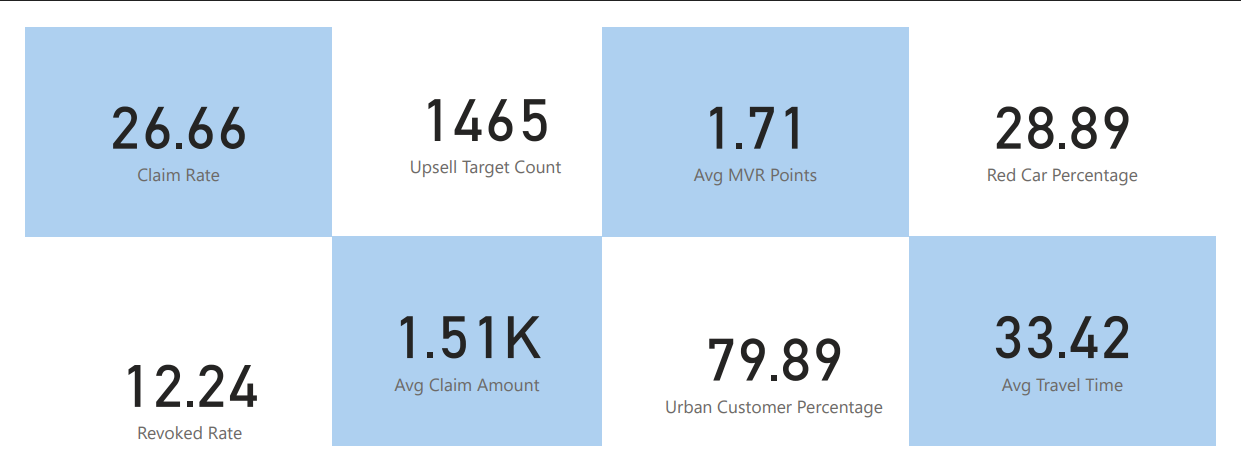

What the dashboard file says about the page in this screenshot:
{"tool":"powerbi","page":{"name":"KPIs","canvas":[1280,720],"ordinal":1},"visuals":[{"type":"card","fields":{"Values":["car_insurance_data_clean.Claim Rate"]},"box":[0,0,279.9,190.6],"z":0},{"type":"card","fields":{"Values":["car_insurance_data_clean.Revoked Rate"]},"box":[9.7,190.6,279.9,279.9],"z":1000},{"type":"card","fields":{"Values":["car_insurance_data_clean.Upsell Target Count"]},"box":[279.9,0,279.9,177.3],"z":2000},{"type":"card","fields":{"Values":["car_insurance_data_clean.Avg MVR Points"]},"box":[526,0,279.9,190.6],"z":3000},{"type":"card","fields":{"Values":["car_insurance_data_clean.Red Car Percentage"]},"box":[805.9,0,279.9,190.6],"z":4000},{"type":"card","fields":{"Values":["car_insurance_data_clean.Avg Claim Amount"]},"box":[279.9,190.6,246.1,191.8],"z":5000},{"type":"card","fields":{"Values":["car_insurance_data_clean.Urban Customer Percentage"]},"box":[542.9,231.6,279.9,150.8],"z":6000},{"type":"card","fields":{"Values":["car_insurance_data_clean.Avg Travel Time"]},"box":[805.9,190.6,279.9,191.8],"z":7000}]}

Visuals, with their boxes on the page's 1280x720 design canvas (x1, y1, x2, y2). These are canvas units, not pixel positions in the 1241x468 screenshot, which may show the page scaled, cropped or inside an application window:
card - car_insurance_data_clean.Claim Rate: <bbox>0, 0, 280, 191</bbox>
card - car_insurance_data_clean.Revoked Rate: <bbox>10, 191, 290, 470</bbox>
card - car_insurance_data_clean.Upsell Target Count: <bbox>280, 0, 560, 177</bbox>
card - car_insurance_data_clean.Avg MVR Points: <bbox>526, 0, 806, 191</bbox>
card - car_insurance_data_clean.Red Car Percentage: <bbox>806, 0, 1086, 191</bbox>
card - car_insurance_data_clean.Avg Claim Amount: <bbox>280, 191, 526, 382</bbox>
card - car_insurance_data_clean.Urban Customer Percentage: <bbox>543, 232, 823, 382</bbox>
card - car_insurance_data_clean.Avg Travel Time: <bbox>806, 191, 1086, 382</bbox>
